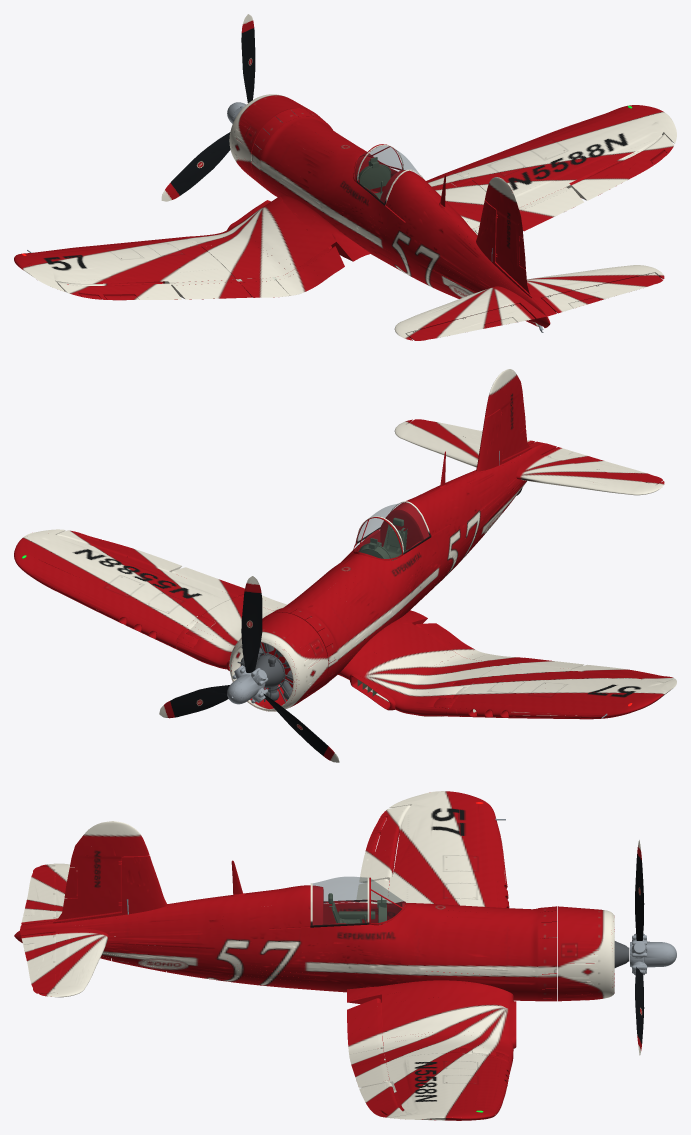
The model's file is f4u_corsair_scarlet.glb.
3 views of the same model, one above another, from view 1: azimuth 30°, elevation 25°; view 2: azimuth 150°, elevation 25°; view 3: azimuth 270°, elevation 25° (orthographic). The views are drawn at different scales.
Parts seen in each view (by area): view 1: fuselage_core, wing_right_fixed, wing_center_fixed, wing_left_fixed, stabilizer_fixed, elevator, cowl, propeller_rotor, rudder, aileron_right, canopy_glass, flap_left_1 (+6 smaller); view 2: fuselage_core, wing_center_fixed, wing_right_fixed, wing_left_fixed, cowl, propeller_rotor, stabilizer_fixed, rudder, elevator, canopy_glass, engine_face, windshield_glass (+6 smaller); view 3: fuselage_core, wing_left_fixed, wing_center_fixed, wing_right_fixed, cowl, rudder, stabilizer_fixed, elevator, propeller_rotor, canopy_glass, fin_fixed, aileron_left (+7 smaller).
Part boxes in pixels (x1,y1,x2,y2): fuselage_core: [259, 116, 550, 327]; wing_right_fixed: [452, 105, 676, 207]; wing_center_fixed: [179, 170, 486, 279]; wing_left_fixed: [14, 237, 235, 292]; stabilizer_fixed: [394, 265, 664, 340]; elevator: [406, 273, 662, 340]; cowl: [229, 94, 332, 195]; propeller_rotor: [161, 14, 255, 201]; rudder: [485, 177, 529, 293]; aileron_right: [570, 134, 674, 200]; canopy_glass: [358, 146, 418, 202]; flap_left_1: [275, 246, 344, 295]; fuselage_core: [260, 443, 546, 687]; wing_center_fixed: [175, 597, 506, 716]; wing_right_fixed: [14, 529, 235, 649]; wing_left_fixed: [446, 663, 676, 719]; cowl: [229, 607, 337, 711]; propeller_rotor: [159, 576, 339, 762]; stabilizer_fixed: [394, 419, 664, 495]; rudder: [485, 369, 530, 459]; elevator: [407, 419, 662, 485]; canopy_glass: [359, 502, 428, 551]; engine_face: [237, 642, 292, 702]; windshield_glass: [354, 518, 401, 558]; fuselage_core: [14, 860, 541, 1001]; wing_left_fixed: [387, 791, 509, 908]; wing_center_fixed: [347, 980, 516, 1065]; wing_right_fixed: [385, 1053, 511, 1120]; cowl: [538, 906, 614, 1001]; rudder: [55, 821, 149, 920]; stabilizer_fixed: [20, 863, 108, 997]; elevator: [21, 866, 55, 993]; propeller_rotor: [630, 840, 676, 1055]; canopy_glass: [313, 877, 367, 924]; fin_fixed: [53, 855, 167, 923]; aileron_left: [359, 805, 410, 882].
Size of the model in its own units: 2.78 by 0.7704 by 2.38.
Materials: 14 (6 with a texture image).
